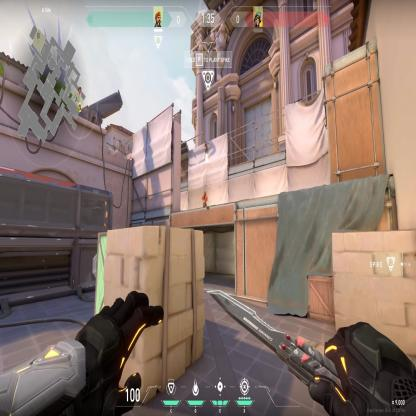enemy: (202, 189, 207, 207)
